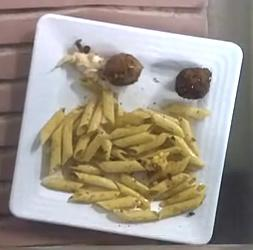chicken: (59, 39, 104, 91)
meatball: (103, 54, 143, 86), (176, 68, 211, 99)
pasta: (39, 39, 208, 220)
